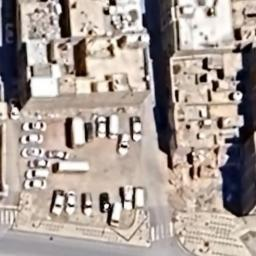SUV: (120, 183, 136, 214), (24, 167, 52, 181), (118, 132, 133, 156), (82, 192, 94, 220)
others: (69, 115, 87, 151), (52, 160, 92, 176)
pickup: (50, 188, 66, 215), (130, 114, 144, 140)
sedan: (20, 118, 50, 135), (19, 133, 46, 146), (96, 113, 109, 140), (64, 190, 78, 215), (20, 146, 48, 158), (23, 180, 50, 192), (84, 117, 95, 144), (47, 149, 72, 160), (26, 159, 52, 169)
van: (108, 201, 123, 228), (108, 112, 120, 140), (134, 186, 146, 210)
